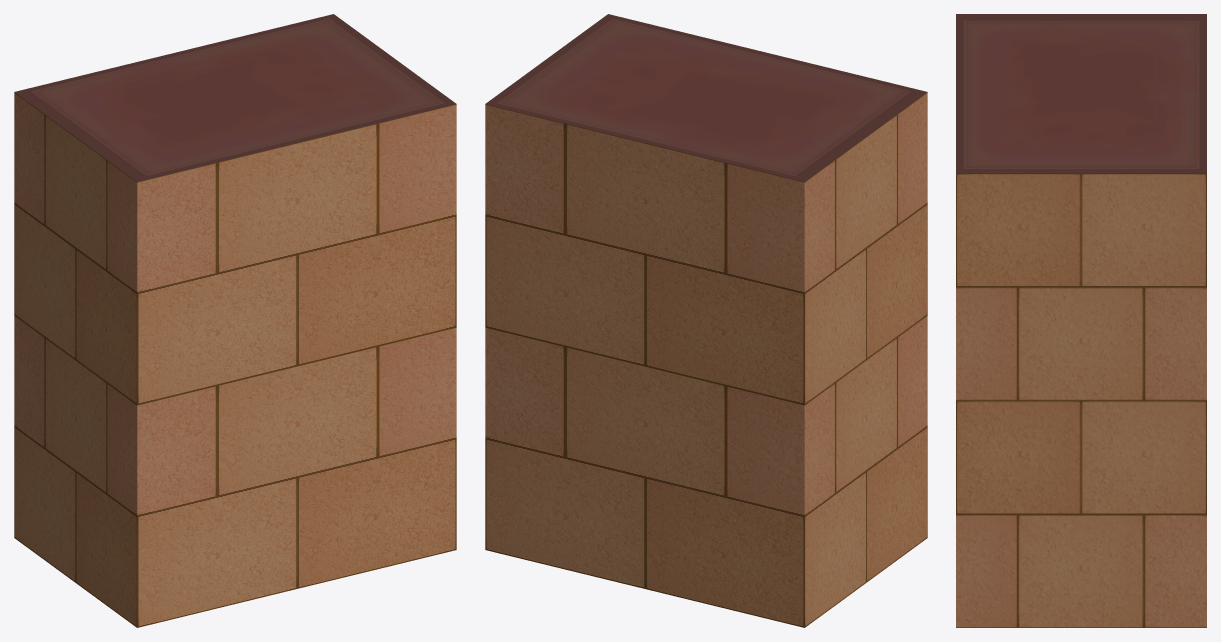
File: Wall_1o5.fbx
3 renders of one model, left to right at view 1: azimuth 30°, elevation 25°; view 2: azimuth 150°, elevation 25°; view 3: azimuth 270°, elevation 25°, orthographic. The views are drawn at different scales.
Parts seen in each view (by area): view 1: Wall_1o5; view 2: Wall_1o5; view 3: Wall_1o5.
Part boxes in pixels (box(x1,y1,x2,y2)): Wall_1o5: box(14, 14, 456, 627); Wall_1o5: box(485, 14, 927, 627); Wall_1o5: box(956, 14, 1206, 627).
Size of the model in its own units: 1.5 by 2 by 1.
